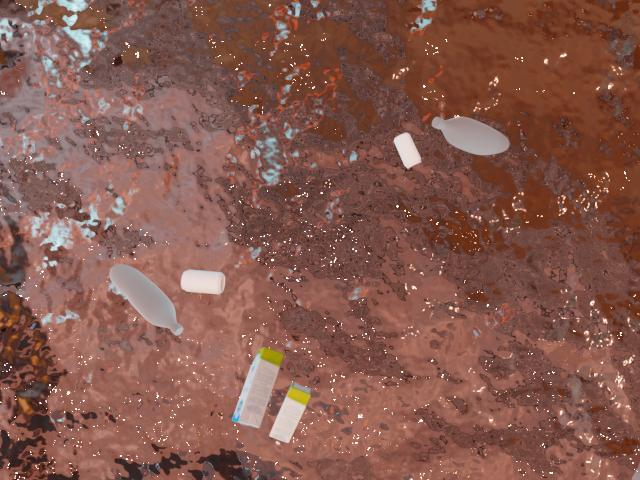Metal: (176, 257, 232, 299), (385, 129, 423, 170)
Plastic: (100, 258, 190, 337), (427, 97, 513, 161)
Trash: (225, 339, 290, 438), (260, 376, 315, 451)
